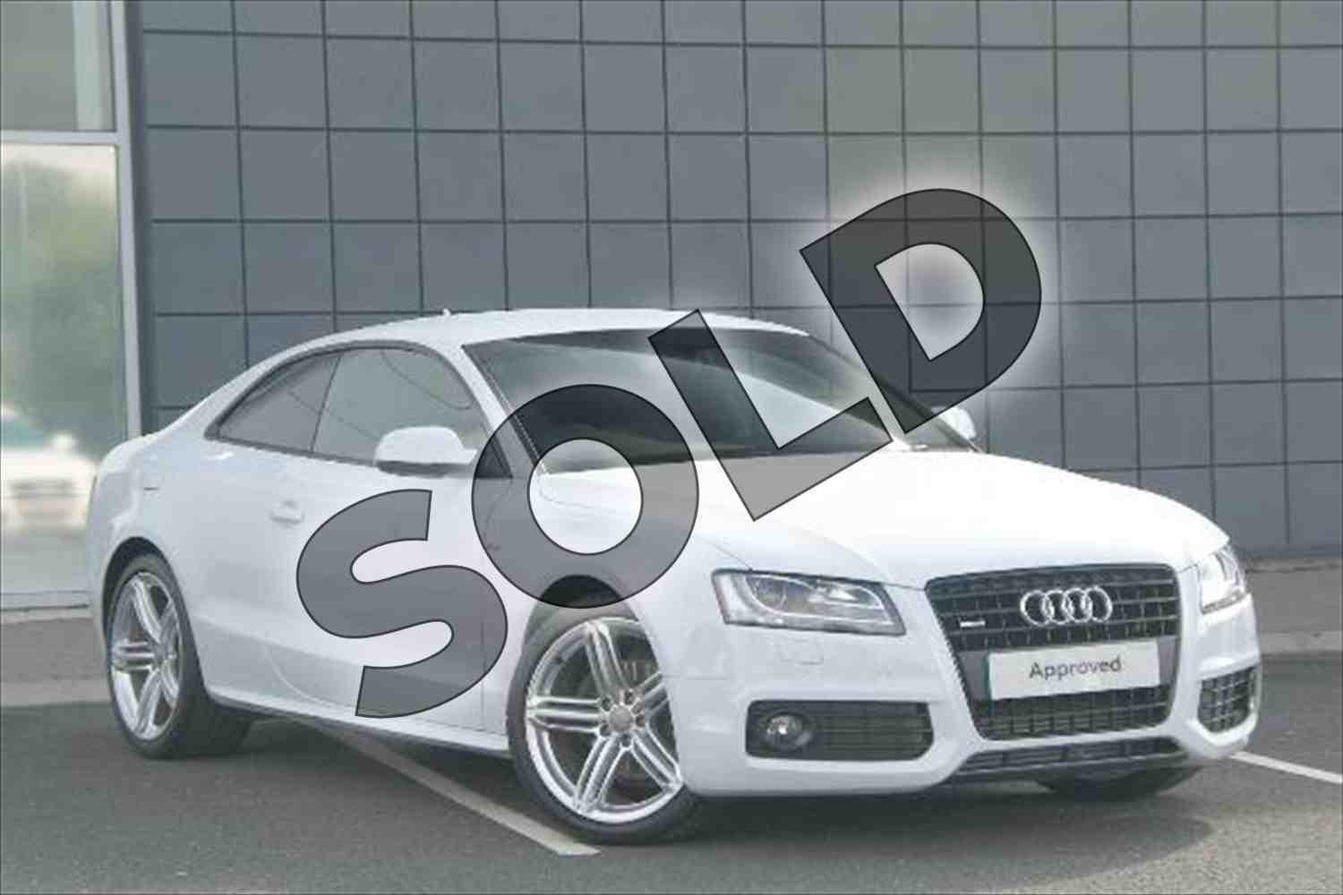Car: (30, 268, 1289, 861)
